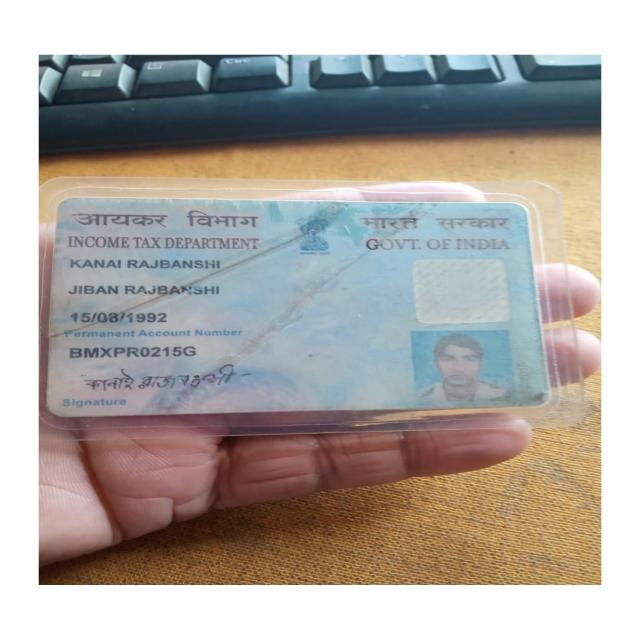pan_card: (46, 198, 546, 410)
